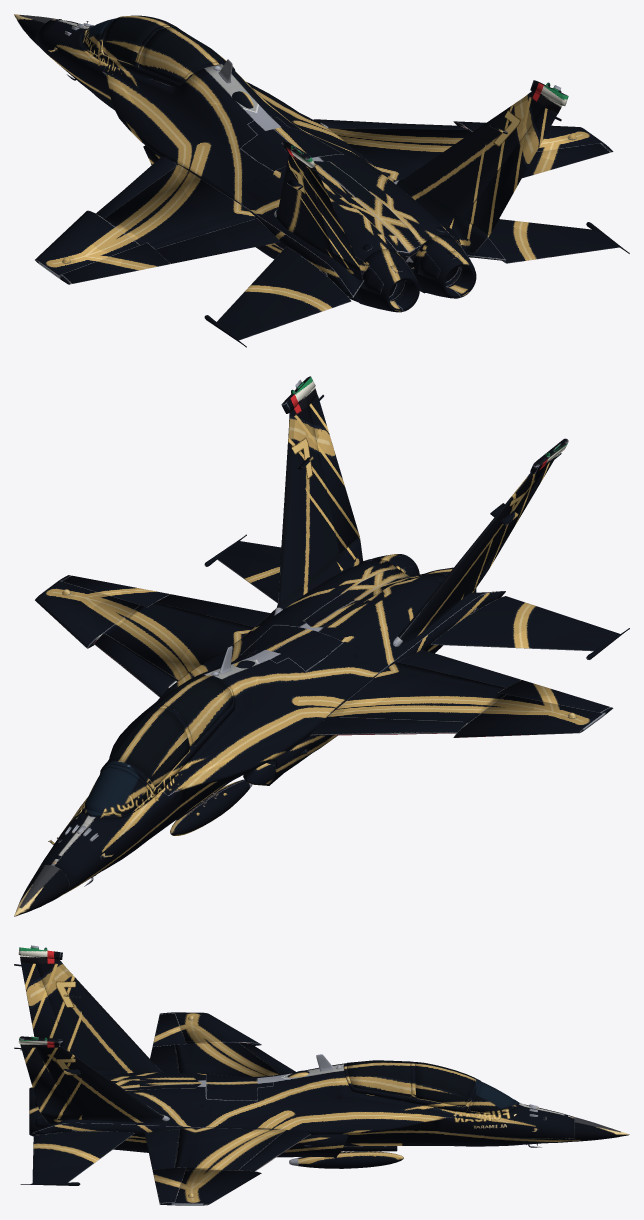
The model's file is L15_AlFursan.glb.
3 views of the same model, one above another, from view 1: azimuth 30°, elevation 25°; view 2: azimuth 150°, elevation 25°; view 3: azimuth 270°, elevation 25° (orthographic). The views are drawn at different scales.
Parts seen in each view (by area): view 1: Object_2, Object_3; view 2: Object_2, Object_3; view 3: Object_2, Object_3.
Boxes of the visible parts, left/top/right/bottom form: Object_2: left=14, top=14, right=629, bottom=347; Object_3: left=19, top=15, right=629, bottom=347; Object_2: left=14, top=376, right=629, bottom=916; Object_3: left=19, top=380, right=605, bottom=908; Object_2: left=14, top=947, right=629, bottom=1205; Object_3: left=30, top=945, right=621, bottom=1205.
Size of the model in its own units: 215 by 92.72 by 292.
1 material, 1 textured.
